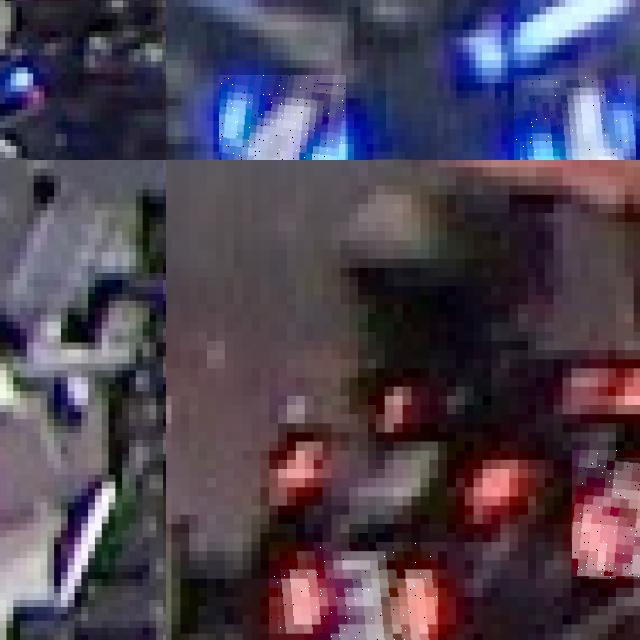B4: (219, 75, 347, 160), (514, 75, 635, 160)
R3: (269, 542, 438, 640), (571, 450, 640, 578)
